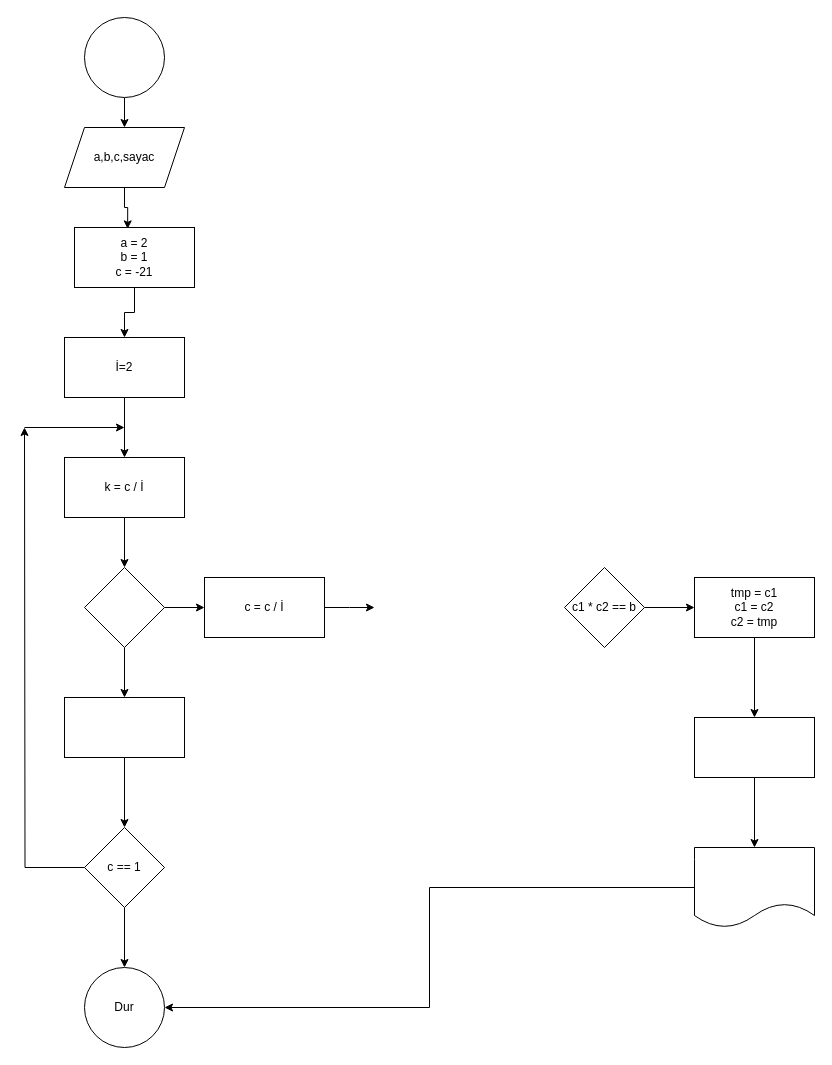
Some shapes in this 832 by 1065 pixel diagram are drawn without their labels. The shapes that lost their labels are listed below. From the top down, each one's box as (x1, y1, x2, y2) in pixels, then its label:
(84, 16, 164, 98): Başla
(84, 566, 164, 648): k>0
(64, 696, 184, 758): İ++
(694, 716, 814, 778): sonuc = c1 * c2
(694, 846, 814, 928): sonuc
